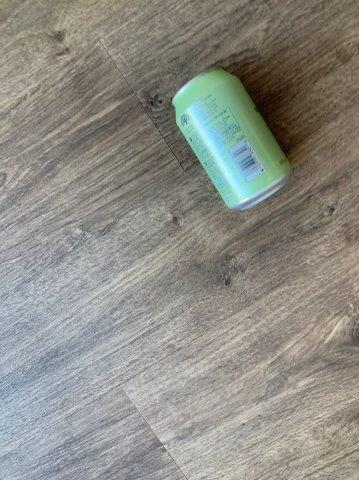kaleng: (173, 68, 291, 209)
